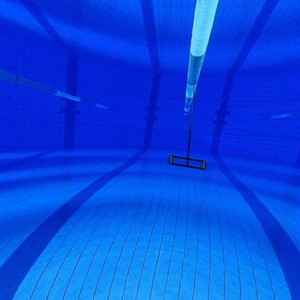circle: (167, 79, 209, 174)
